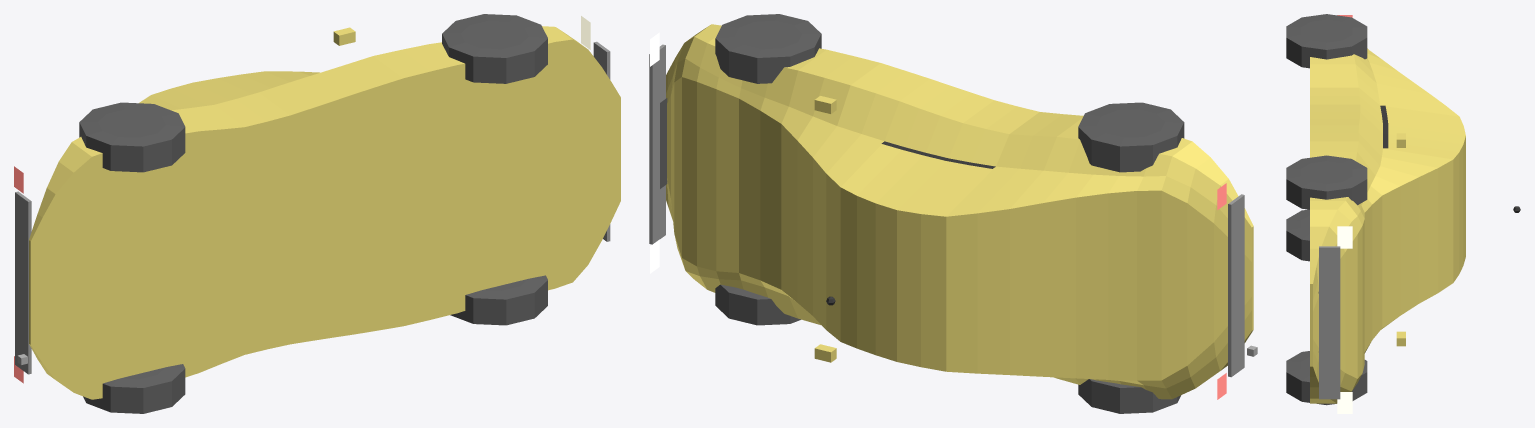
Rendered from Vehicle_4_1.glb.
The picture shows the model from 3 angles, left to right: view 1: azimuth 30°, elevation 25°; view 2: azimuth 150°, elevation 25°; view 3: azimuth 270°, elevation 25°; orthographic projection. The views are drawn at different scales.
Parts seen in each view (by area): view 1: Body, Wheel_-1.1_0.7, Wheel_1.1_0.7, Wheel_-1.1_-0.7, Wheel_1.1_-0.7, BumperR; view 2: Body, Wheel_-1.1_0.7, Wheel_1.1_0.7, BumperR, BumperF, Wheel_-1.1_-0.7, Wheel_1.1_-0.7, Grille; view 3: Body, Wheel_1.1_0.7, Wheel_-1.1_0.7, BumperF, Wheel_1.1_-0.7, Wheel_-1.1_-0.7, HL_0.6, HL_-0.6, Trim_R.
Boxes of the visible parts, x1,y1,x2,y2 form: Body: (29,26,620,399); Wheel_-1.1_0.7: (79,102,185,172); Wheel_1.1_0.7: (442,14,547,83); Wheel_-1.1_-0.7: (83,364,185,413); Wheel_1.1_-0.7: (450,275,547,325); BumperR: (15,191,31,374); Body: (666,24,1253,399); Wheel_-1.1_0.7: (1078,102,1184,172); Wheel_1.1_0.7: (715,14,821,83); BumperR: (1228,194,1244,377); BumperF: (649,44,665,244); Wheel_-1.1_-0.7: (1078,379,1180,413); Wheel_1.1_-0.7: (715,284,800,325); Grille: (660,98,667,188); Body: (1310,48,1465,403); Wheel_1.1_0.7: (1286,155,1367,209); Wheel_-1.1_0.7: (1286,14,1367,68); BumperF: (1319,246,1340,399); Wheel_1.1_-0.7: (1286,351,1367,405); Wheel_-1.1_-0.7: (1286,209,1309,261); HL_0.6: (1337,226,1352,248); HL_-0.6: (1337,392,1352,413); Trim_R: (1380,105,1388,148).
Size of the model in its own units: 3.62 by 1.56 by 1.54.
